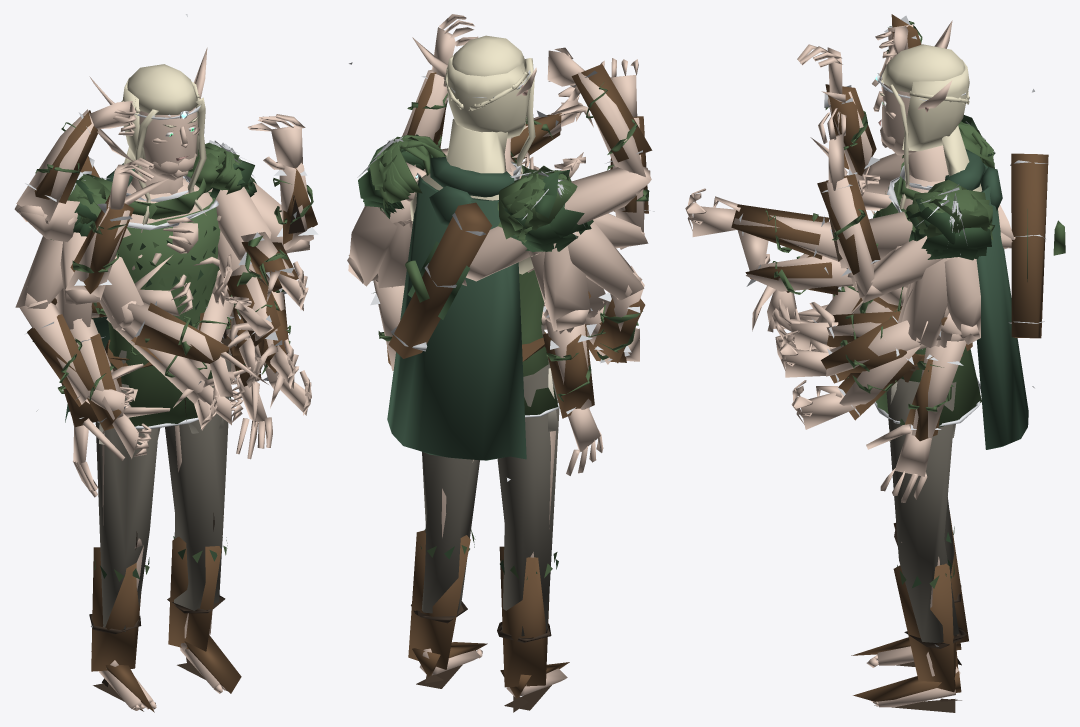
Rendered from elf_heavy.glb.
3 views of the same model, side by side, from view 1: azimuth 30°, elevation 25°; view 2: azimuth 150°, elevation 25°; view 3: azimuth 270°, elevation 25° (orthographic). The views are drawn at different scales.
Visible parts, largest first — view 1: B_6d, B_5d, B_7d, B_0d, R.staffR_26d, R.raised_18d, R.xbowR_38d, L.bowArm_54d, R.cast_32d, R.cast_30d, L.cast_66d, R.xbowR_40d (+36 smaller); view 2: B_8d, B_6d, B_0d, B_7d, R.raised_18d, R.staffR_26d, B_5d, R.carry_42d, L.rest_46d, R.rest_12d, L.carry_74d, R.raised_20d (+26 smaller); view 3: B_8d, B_0d, B_6d, B_7d, L.cast_66d, L.shield_50d, B_5d, L.carry_74d, L.bowArm_54d, L.bowArm_56d, L.rest_46d, R.cast_32d (+26 smaller).
Boxes of the visible parts, x1=… form: B_6d: x1=95, y1=350, x2=231, y2=631; B_5d: x1=97, y1=171, x2=231, y2=428; B_7d: x1=89, y1=536, x2=241, y2=712; B_0d: x1=89, y1=47, x2=207, y2=232; R.staffR_26d: x1=15, y1=236, x2=89, y2=404; R.raised_18d: x1=14, y1=109, x2=93, y2=242; R.xbowR_38d: x1=101, y1=255, x2=229, y2=360; L.bowArm_54d: x1=215, y1=187, x2=294, y2=282; R.cast_32d: x1=70, y1=195, x2=133, y2=293; R.cast_30d: x1=60, y1=207, x2=130, y2=304; L.cast_66d: x1=250, y1=163, x2=313, y2=253; R.xbowR_40d: x1=134, y1=301, x2=229, y2=363; B_8d: x1=349, y1=62, x2=526, y2=481; B_6d: x1=421, y1=324, x2=559, y2=636; B_0d: x1=410, y1=35, x2=536, y2=274; B_7d: x1=408, y1=529, x2=569, y2=712; R.raised_18d: x1=564, y1=72, x2=651, y2=224; R.staffR_26d: x1=567, y1=221, x2=644, y2=331; B_5d: x1=425, y1=155, x2=559, y2=417; R.carry_42d: x1=541, y1=243, x2=590, y2=333; L.rest_46d: x1=373, y1=210, x2=411, y2=370; R.rest_12d: x1=542, y1=324, x2=594, y2=418; L.carry_74d: x1=347, y1=206, x2=404, y2=286; R.raised_20d: x1=571, y1=64, x2=652, y2=163; B_8d: x1=945, y1=89, x2=1065, y2=449; B_0d: x1=873, y1=20, x2=982, y2=212; B_6d: x1=886, y1=378, x2=958, y2=642; B_7d: x1=851, y1=510, x2=968, y2=712; L.cast_66d: x1=826, y1=175, x2=943, y2=302; L.shield_50d: x1=826, y1=258, x2=952, y2=376; B_5d: x1=873, y1=162, x2=981, y2=427; L.carry_74d: x1=879, y1=257, x2=980, y2=344; L.bowArm_54d: x1=733, y1=211, x2=912, y2=268; L.bowArm_56d: x1=731, y1=204, x2=829, y2=259; L.rest_46d: x1=911, y1=331, x2=966, y2=438; R.cast_32d: x1=824, y1=84, x2=879, y2=175.
Size of the model in its own units: 0.898 by 1.93 by 1.04.
